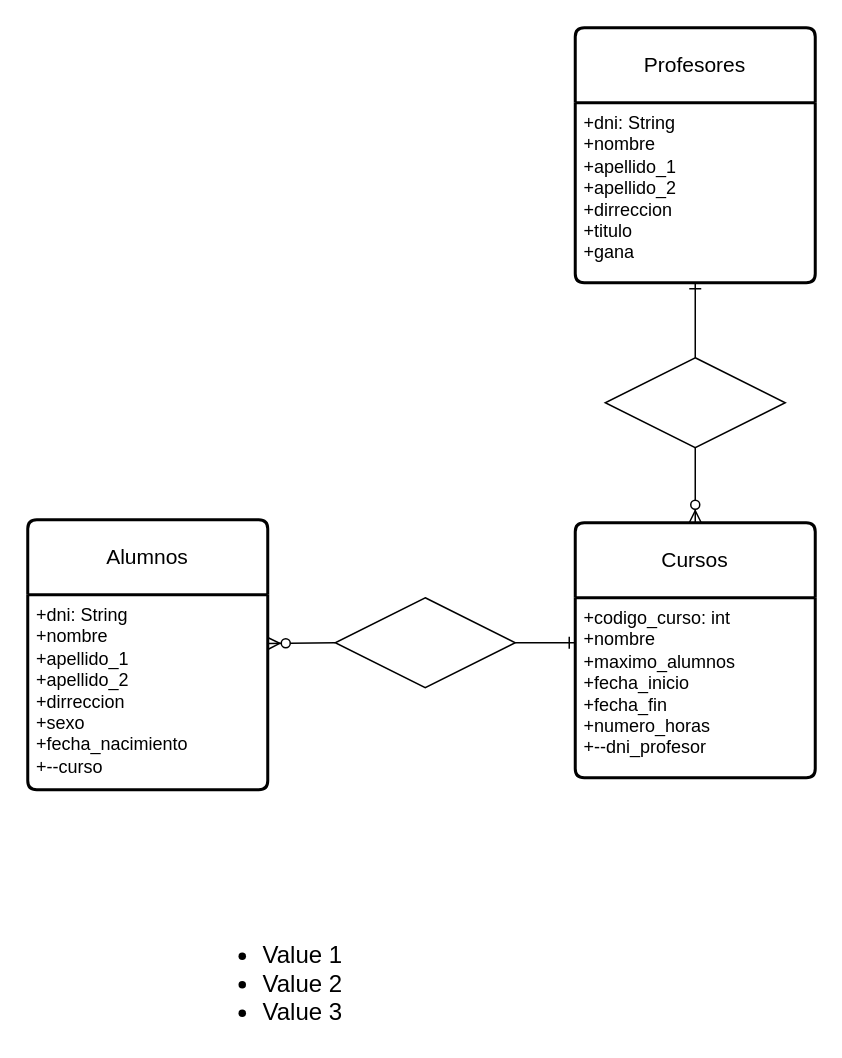
Some shapes in this 842 by 1058 pixel diagram are drawn without their labels. Here are the shapes that lost their labels. From the top down, the centre of each, then its label:
At pixel 694 402: "Impartir".
At pixel 424 642: "Estudiar".
